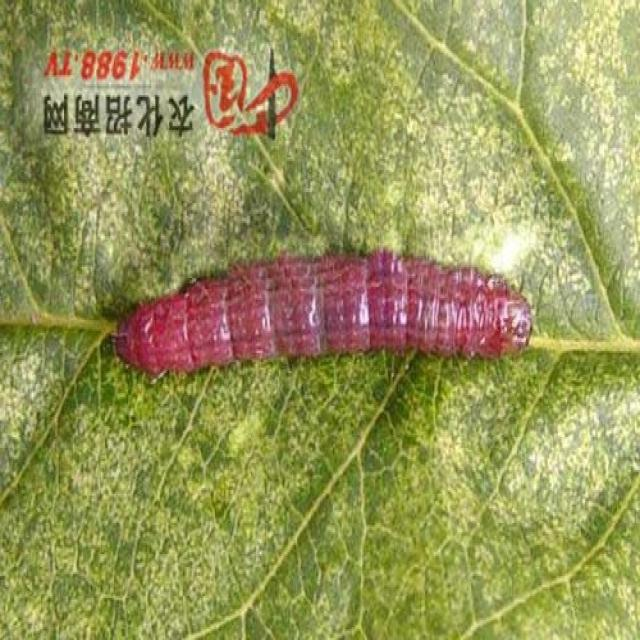peach borer: (106, 251, 533, 384)
